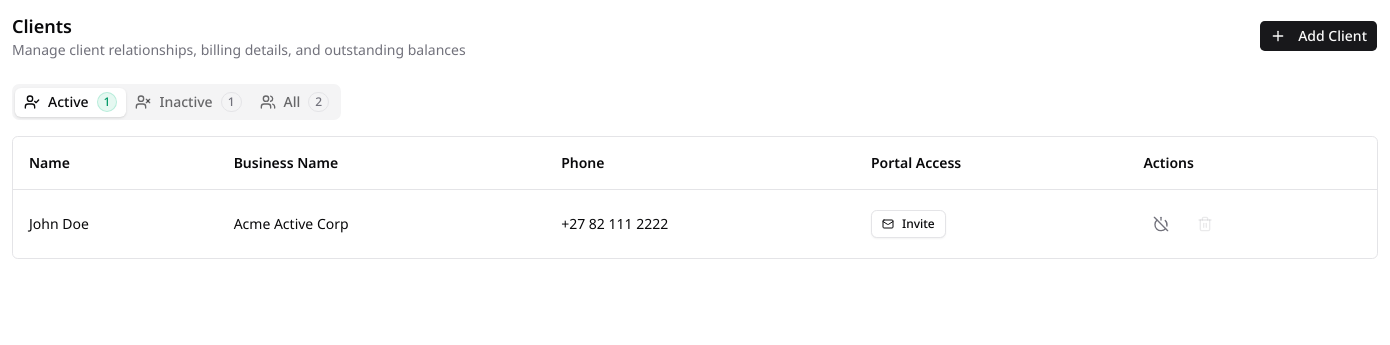
Scenario: ClientsPageClient Status Tabs › switches to All tab and renders all clients
// Click on All tab
Click the tab "All 2" at (294, 102), box [250, 88, 338, 116]
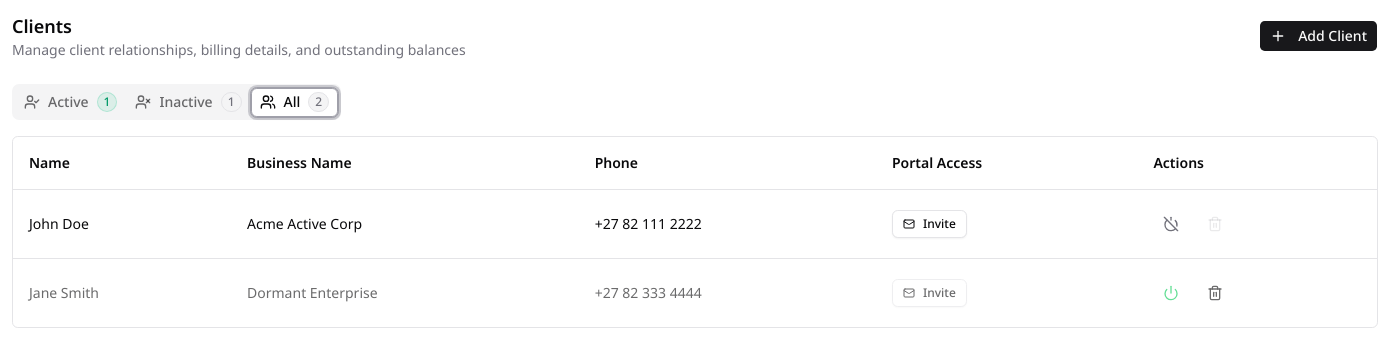
Expected: the text "Acme Active Corp" is shown, [231, 190, 579, 258]
Result: the text "Dormant Enterprise" is shown at [231, 258, 579, 327]
